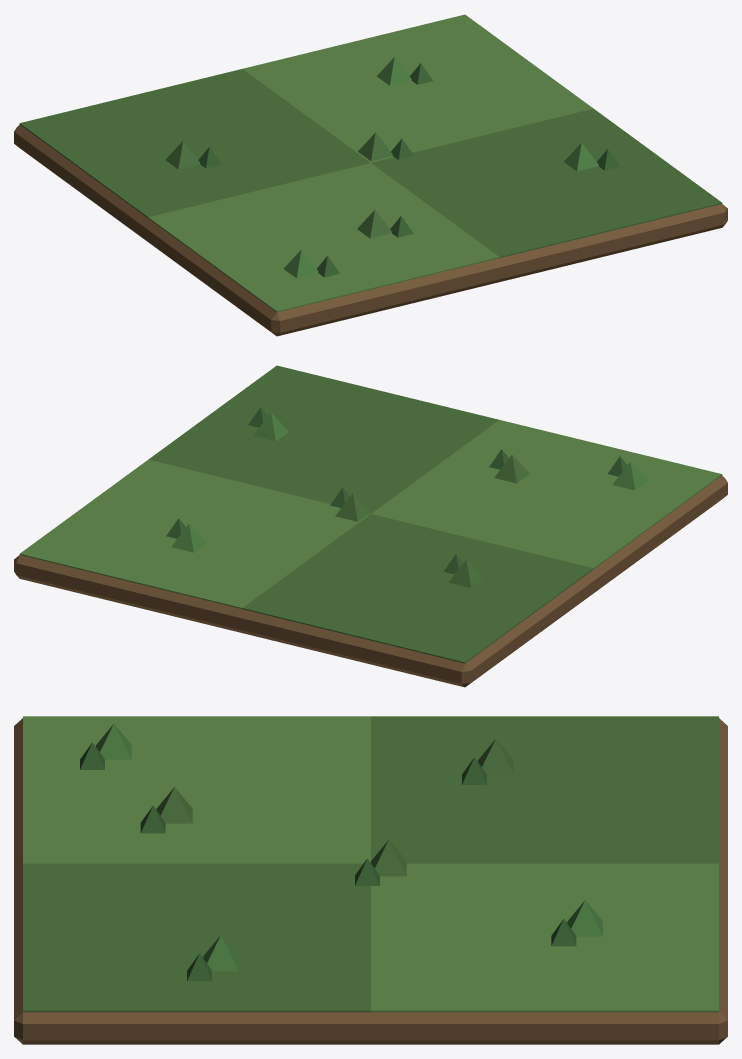
Rendered from tile_grass.glb.
The picture shows the model from 3 angles, top to bottom: view 1: azimuth 30°, elevation 25°; view 2: azimuth 150°, elevation 25°; view 3: azimuth 270°, elevation 25°; orthographic projection. The views are drawn at different scales.
Visible parts, largest first — view 1: tile_grass; view 2: tile_grass; view 3: tile_grass.
Part boxes in pixels (x1,y1,x2,y2): tile_grass: (14,14,727,336); tile_grass: (14,365,727,687); tile_grass: (14,716,727,1044).
Bounding box in the file's own units: 2 × 0.202 × 2.
